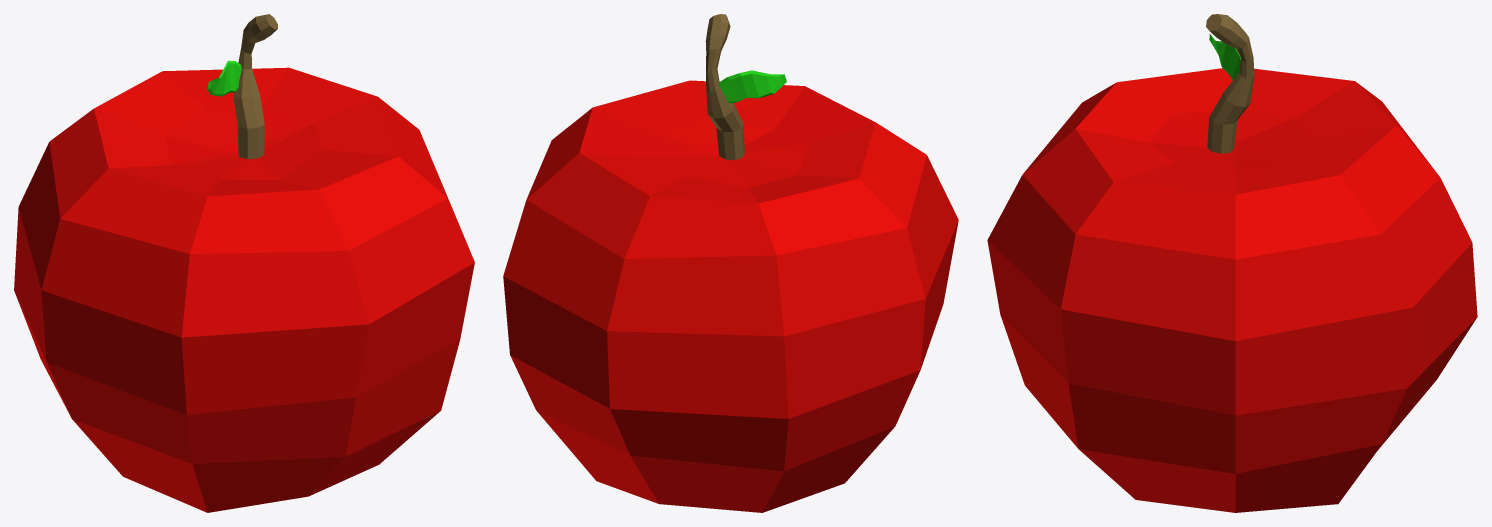
File: japko.fbx
3 views of the same model, side by side, from view 1: azimuth 30°, elevation 25°; view 2: azimuth 150°, elevation 25°; view 3: azimuth 270°, elevation 25° (orthographic). The views are drawn at different scales.
Parts seen in each view (by area): view 1: Apple-1, Apple-2; view 2: Apple-2, Apple-1; view 3: Apple-1, Apple-2.
Part boxes in pixels (left/top/right/bottom): Apple-1: left=41, top=14, right=474, bottom=512; Apple-2: left=14, top=67, right=377, bottom=418; Apple-2: left=503, top=107, right=925, bottom=512; Apple-1: left=593, top=14, right=958, bottom=369; Apple-1: left=987, top=14, right=1254, bottom=512; Apple-2: left=1235, top=68, right=1477, bottom=512.
Size of the model in its own units: 52.44 by 56.17 by 53.8.
